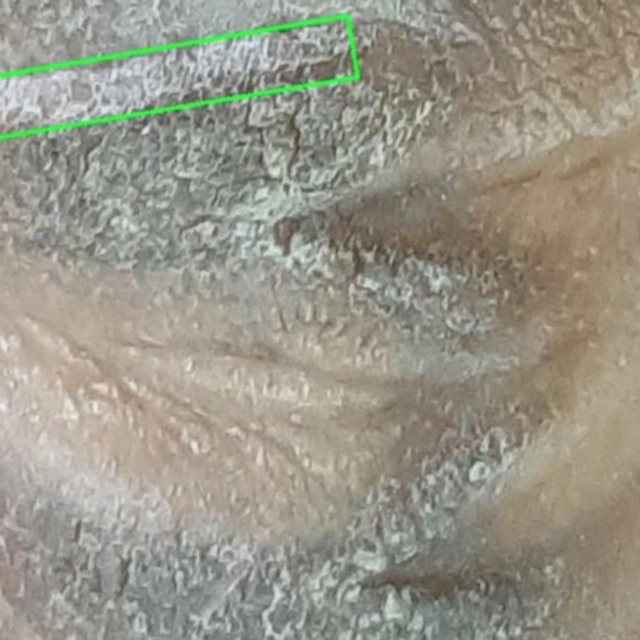Contact Dermatitis: (0, 15, 358, 140)
